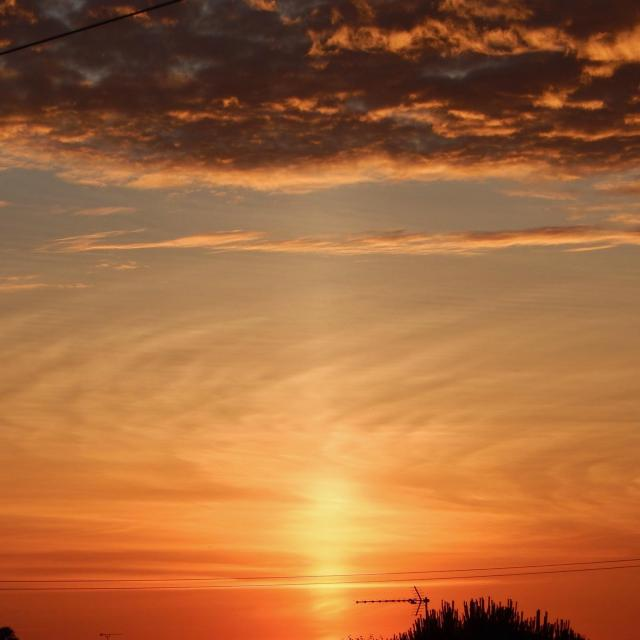other: (304, 478, 380, 619)
